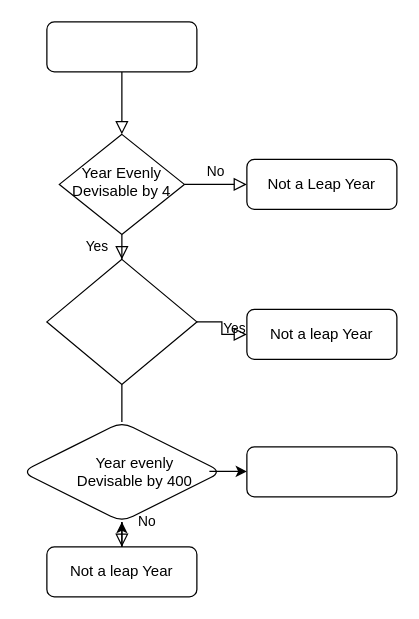
Some shapes in this 419 by 619 pixel diagram are drawn without their labels. Each missing label, with the box of its shape:
Enter Year: (46, 21, 197, 72)
Leap year: (246, 446, 397, 497)
Year Evenly Devisable by 100: (46, 258, 197, 384)
